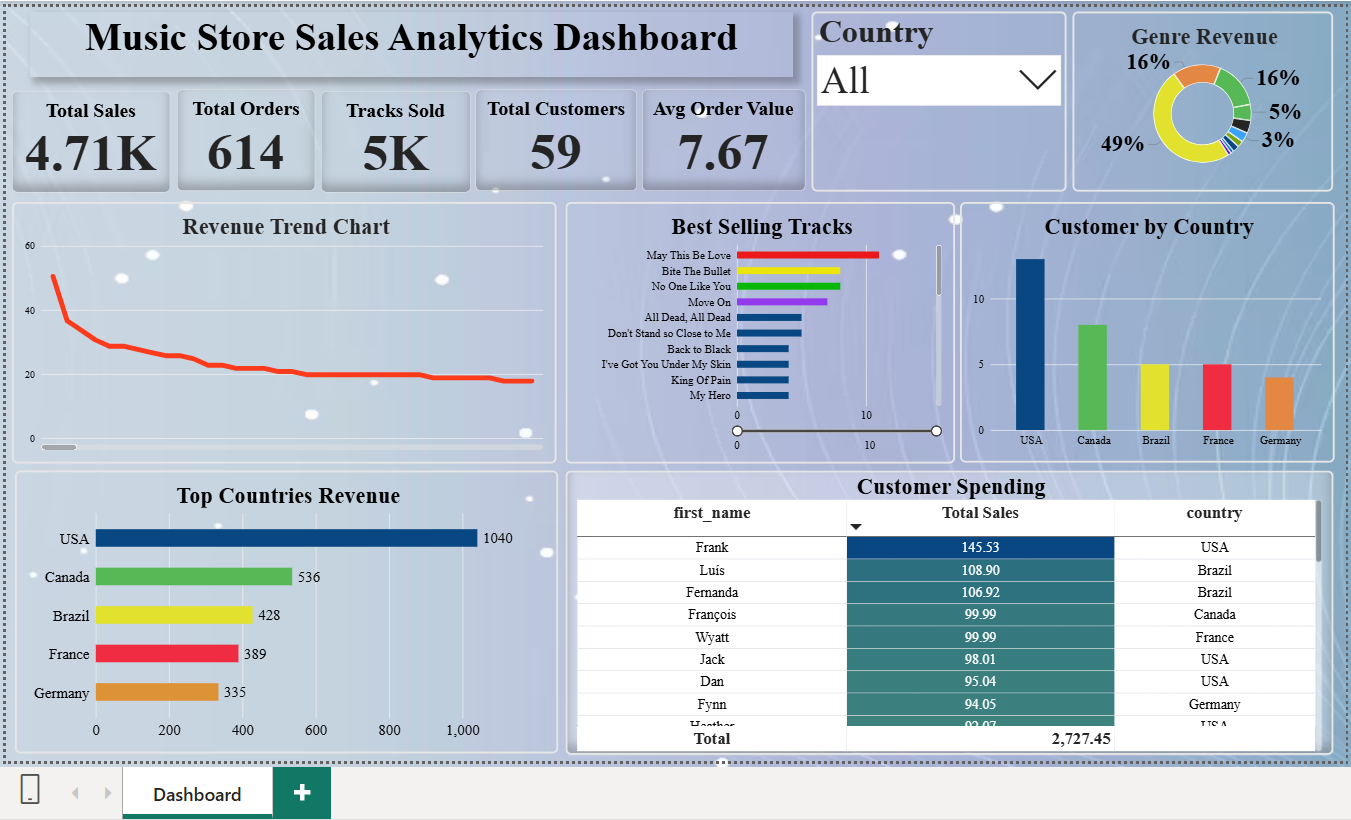

Layout of this report page (visuals, bound fields, positions):
{"tool":"powerbi","page":{"name":"Dashboard","canvas":[1920,1080],"ordinal":0},"visuals":[{"type":"cardVisual","fields":{"Data":["musiconlinedb invoice_line.Total Sales"]},"box":[9.5,119.3,226.7,145.5],"z":0},{"type":"cardVisual","fields":{"Data":["musiconlinedb album.Total Orders"]},"box":[244,119,198,145],"z":1000},{"type":"cardVisual","fields":{"Data":["musiconlinedb album.Tracks Sold"]},"box":[451,119.3,214.7,145.5],"z":2000},{"type":"cardVisual","fields":{"Data":["musiconlinedb album.Total Customers"]},"box":[673,119,231.4,145.5],"z":3000},{"type":"lineChart","title":"Revenue Trend Chart","fields":{"Category":["musiconlinedb invoice.invoice_date"],"Y":["musiconlinedb invoice_line.Total Sales"]},"box":[9.5,279.2,780.2,374.6],"z":4000},{"type":"clusteredBarChart","title":"Top Countries Revenue","fields":{"Category":["musiconlinedb customers.country"],"Y":["musiconlinedb invoice_line.Total Sales"]},"box":[11.9,663.3,777.8,405.6],"z":5000},{"type":"clusteredColumnChart","title":"Customer by Country","fields":{"Category":["musiconlinedb customers.country"],"Y":["musiconlinedb album.Total Customers"]},"box":[1367.1,280,536.8,373],"z":6000},{"type":"tableEx","title":"Customer Spending","fields":{"Values":["musiconlinedb customers.first_name","musiconlinedb invoice_line.Total Sales","musiconlinedb customers.country"]},"box":[801.7,664,1099.9,407],"z":7000},{"type":"donutChart","title":"Genre Revenue","fields":{"Category":["musiconlinedb genre.name"],"Y":["musiconlinedb invoice_line.Total Sales"]},"box":[1528,7.2,373,257.7],"z":8000},{"type":"clusteredBarChart","title":"Best Selling Tracks","fields":{"Category":["musiconlinedb track.name"],"Y":["musiconlinedb album.Tracks Sold"]},"box":[801.7,279.2,558.3,374.6],"z":10000},{"type":"cardVisual","fields":{"Data":["musiconlinedb album.Average Order Value"]},"box":[911,119,233.8,145.5],"z":11000},{"type":"textbox","box":[33.4,7.2,1092.7,93.1],"z":12000},{"type":"slicer","fields":{"Values":["musiconlinedb customers.country"]},"box":[1154,7.2,365,257.7],"z":12001}]}

Visuals, with their boxes on the page's 1920x1080 design canvas (x1, y1, x2, y2). These are canvas units, not pixel positions in the 1351x820 screenshot, which may show the page scaled, cropped or inside an application window:
cardVisual - musiconlinedb invoice_line.Total Sales: (10, 119, 236, 265)
cardVisual - musiconlinedb album.Total Orders: (244, 119, 442, 264)
cardVisual - musiconlinedb album.Tracks Sold: (451, 119, 666, 265)
cardVisual - musiconlinedb album.Total Customers: (673, 119, 904, 264)
"Revenue Trend Chart" lineChart: (10, 279, 790, 654)
"Top Countries Revenue" clusteredBarChart: (12, 663, 790, 1069)
"Customer by Country" clusteredColumnChart: (1367, 280, 1904, 653)
"Customer Spending" tableEx: (802, 664, 1902, 1071)
"Genre Revenue" donutChart: (1528, 7, 1901, 265)
"Best Selling Tracks" clusteredBarChart: (802, 279, 1360, 654)
cardVisual - musiconlinedb album.Average Order Value: (911, 119, 1145, 264)
textbox: (33, 7, 1126, 100)
slicer - musiconlinedb customers.country: (1154, 7, 1519, 265)
